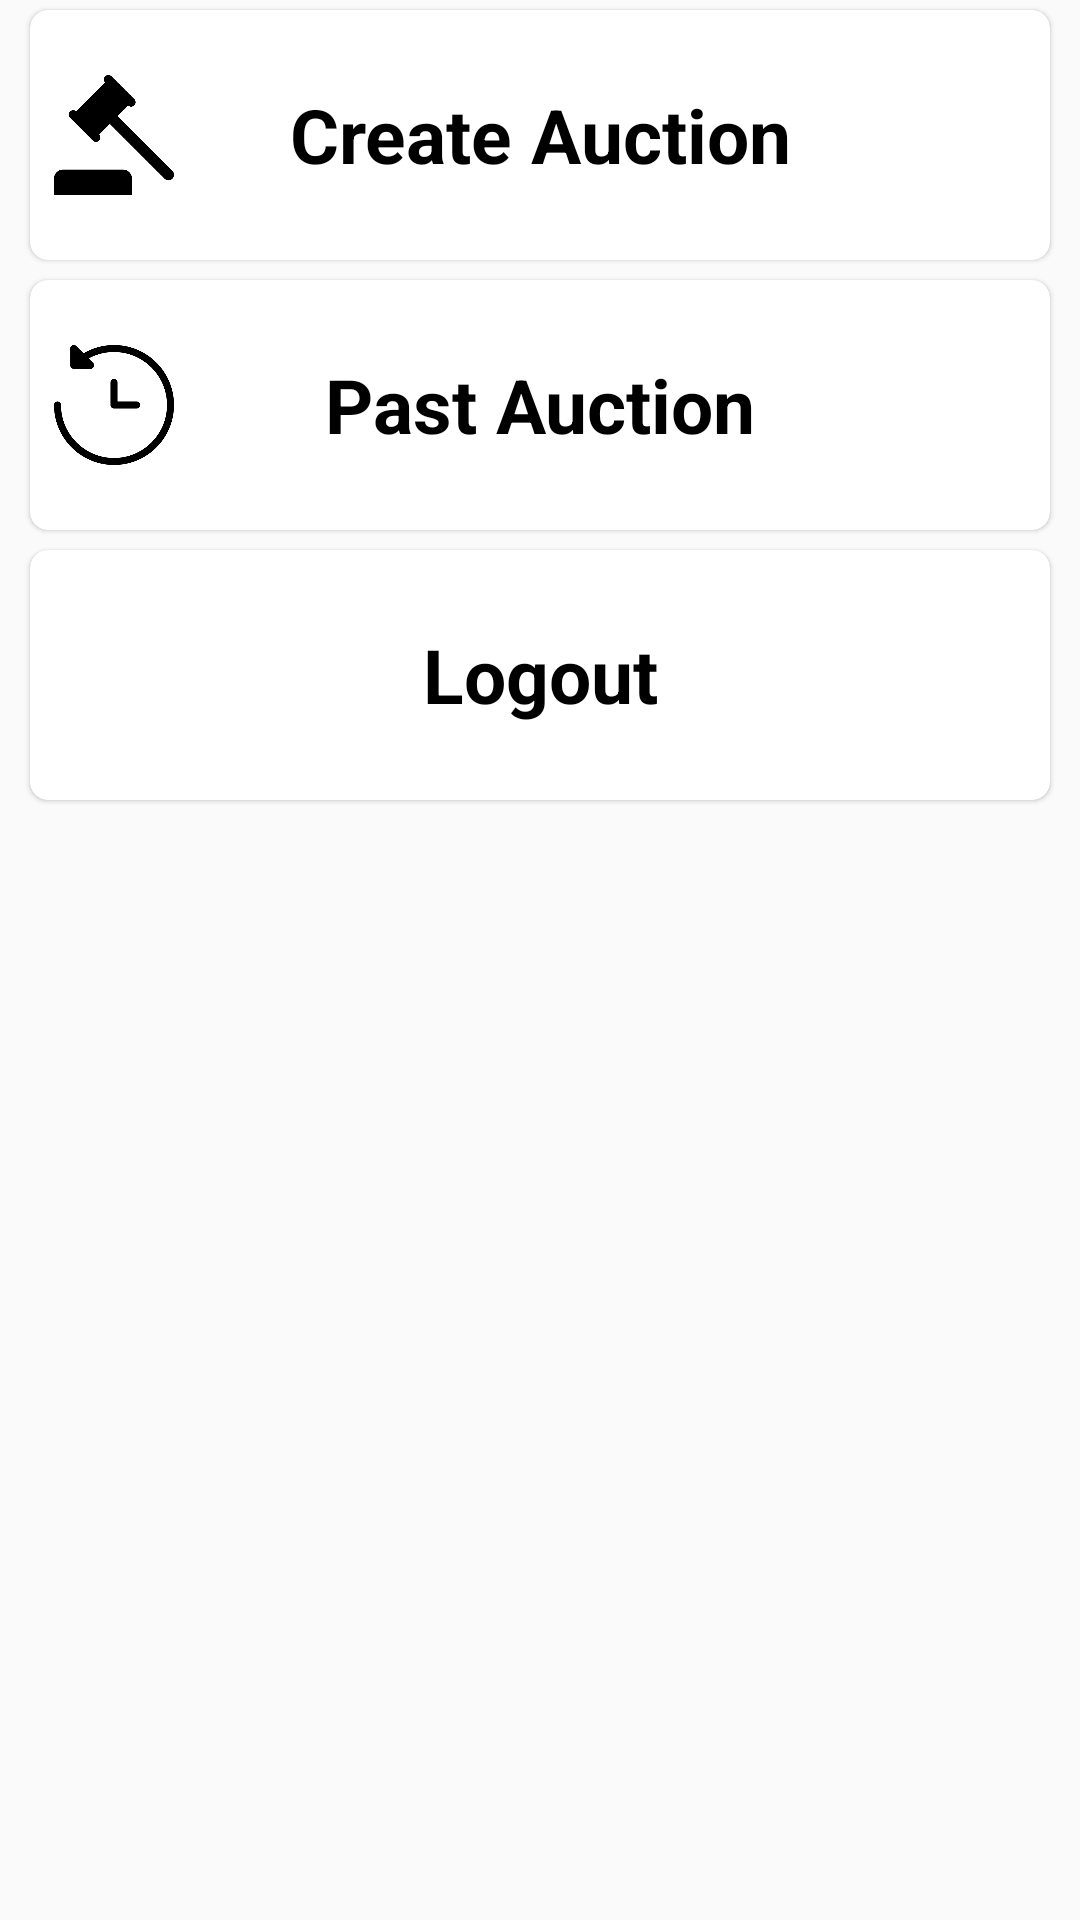

Locate icon controls on the screen. Image size 1080px x 1920px, boxes as (x1, y1, x2, y2).
auction hammer: (54, 75, 174, 195)
